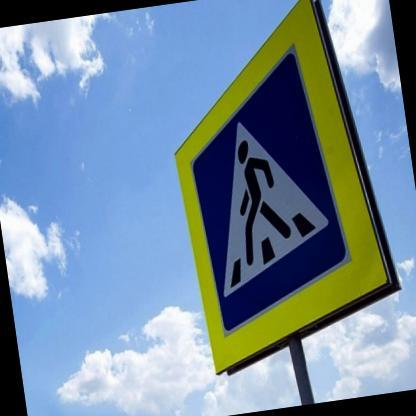road_sign: (176, 0, 400, 374)
